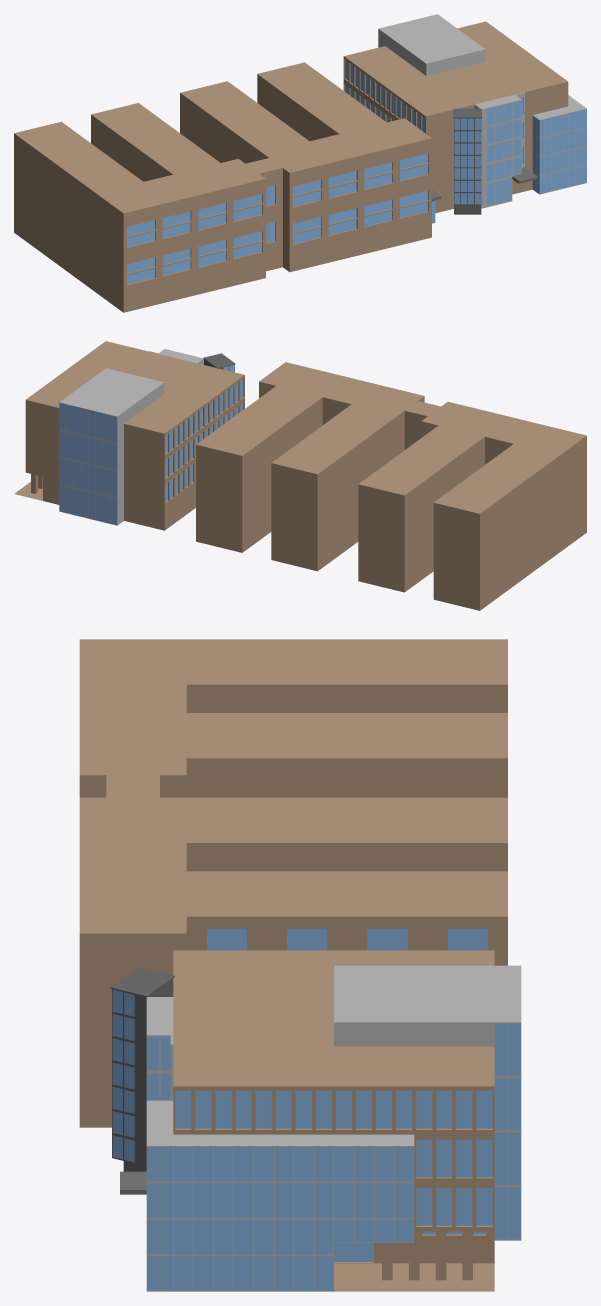
File: futureTexture.fbx
3 views of the same model, one above another, from view 1: azimuth 30°, elevation 25°; view 2: azimuth 150°, elevation 25°; view 3: azimuth 270°, elevation 25° (orthographic). The views are drawn at different scales.
Visible parts, largest first — view 1: Cube.021, Cube.010, Cube, Cube.020, Cube.013, Cube.012, Cube.022, Cube.001, Cube.015, Cube.006, Cube.003, Cube.023 (+3 smaller); view 2: Cube, Cube.020, Cube.013, Cube.012, Cube.022, Cube.014, Cube.021, Cube.010, Cube.015, Cube.023, Cube.006; view 3: Cube, Cube.002, Cube.022, Cube.012, Cube.013, Cube.010, Cube.020, Cube.021, Cube.015, Cube.014, Cube.006, Cube.001 (+2 smaller).
Boxes of the visible parts, <box> form: Cube.021: <box>96,158,265,312</box>; Cube.010: <box>262,118,431,272</box>; Cube: <box>343,21,568,213</box>; Cube.020: <box>14,121,143,292</box>; Cube.013: <box>180,81,309,163</box>; Cube.012: <box>257,62,386,141</box>; Cube.022: <box>91,103,219,181</box>; Cube.001: <box>532,103,586,194</box>; Cube.015: <box>385,19,485,75</box>; Cube.006: <box>453,108,481,214</box>; Cube.003: <box>480,94,521,182</box>; Cube.023: <box>246,158,282,271</box>; Cube: <box>14,341,244,530</box>; Cube.020: <box>433,444,560,610</box>; Cube.013: <box>271,404,397,571</box>; Cube.012: <box>196,386,322,552</box>; Cube.022: <box>358,425,484,592</box>; Cube.014: <box>59,397,123,525</box>; Cube.021: <box>421,401,586,551</box>; Cube.010: <box>259,362,424,454</box>; Cube.015: <box>66,368,164,423</box>; Cube.023: <box>404,401,440,449</box>; Cube.006: <box>203,353,235,372</box>; Cube: <box>173,950,494,1291</box>; Cube.002: <box>173,1134,414,1291</box>; Cube.022: <box>186,713,507,797</box>; Cube.012: <box>186,871,507,965</box>; Cube.013: <box>186,797,507,871</box>; Cube.010: <box>79,797,186,1127</box>; Cube.020: <box>186,639,507,712</box>; Cube.021: <box>79,639,186,797</box>; Cube.015: <box>334,965,494,1046</box>; Cube.014: <box>494,965,521,1240</box>; Cube.006: <box>110,967,174,1171</box>; Cube.001: <box>146,1100,173,1291</box>.
Size of the model in its own units: 40500 by 9000 by 16500.
